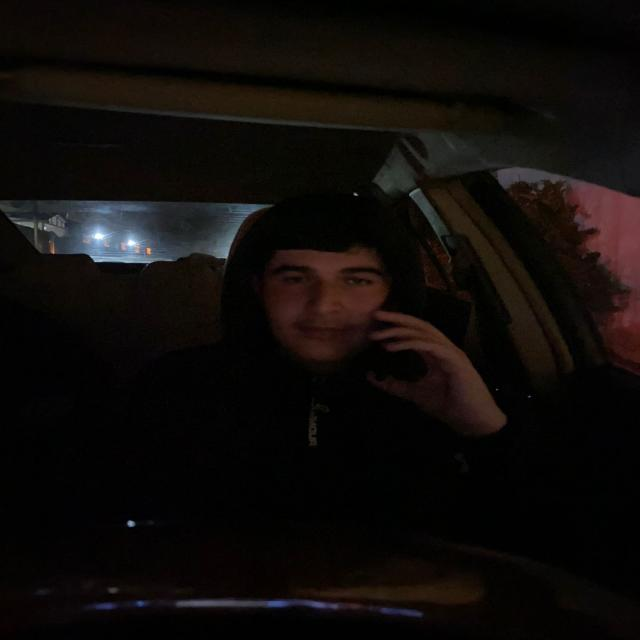mobile: (364, 332, 402, 389)
person: (224, 191, 427, 384)
